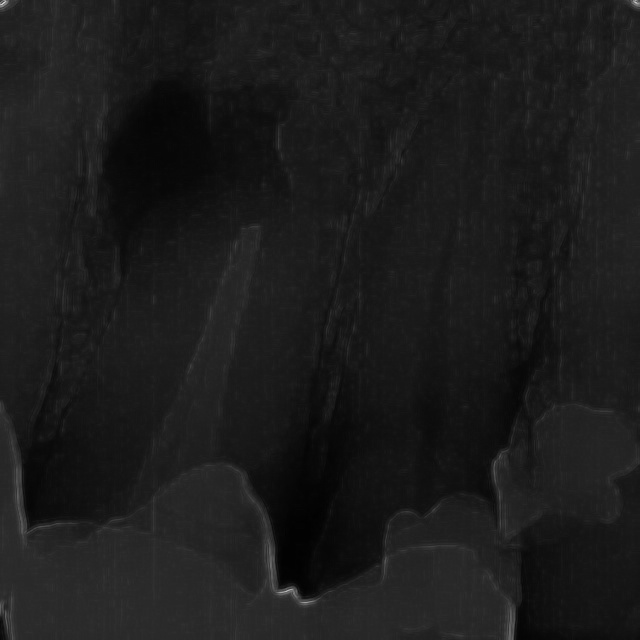Class 1- complete endodontic treatment: (0, 54, 375, 640)
